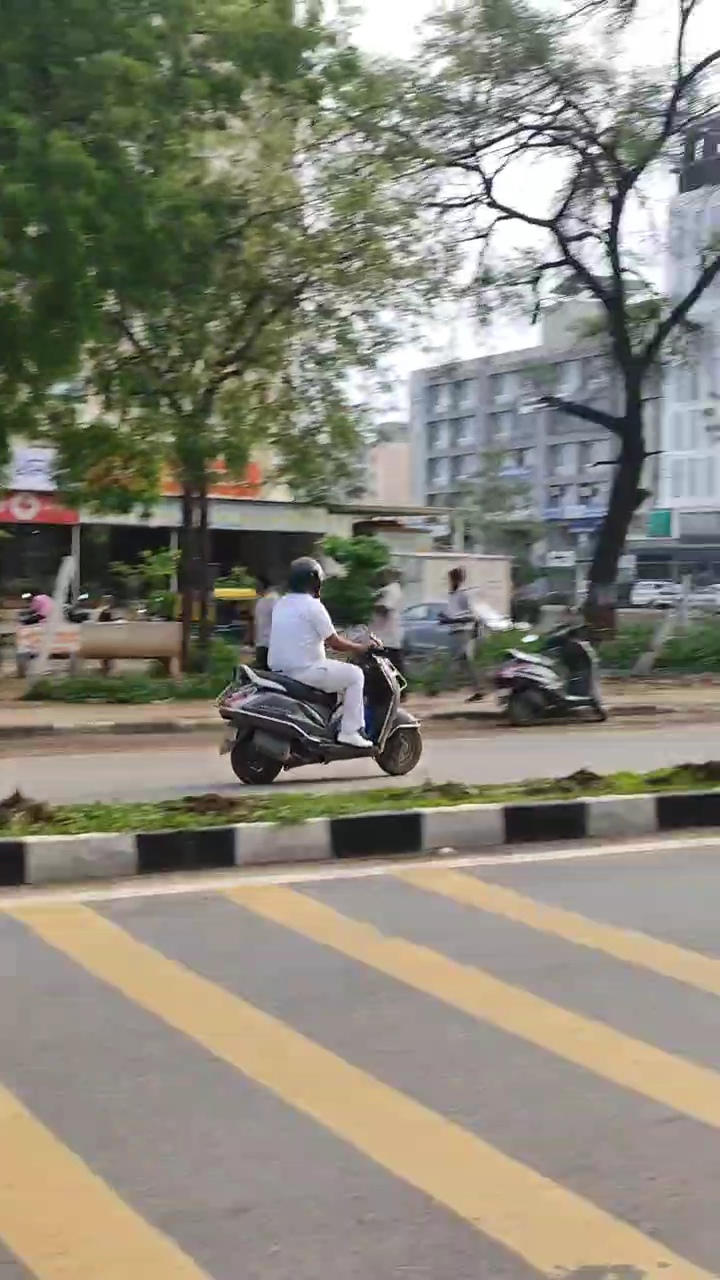BikeWithRider: (206, 547, 430, 791)
Helmet: (282, 550, 331, 601)
